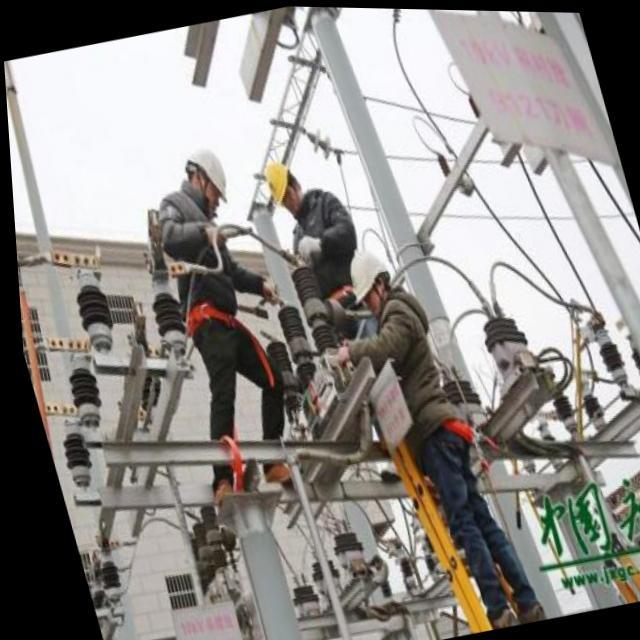belt: (186, 281, 274, 384), (410, 354, 458, 424)
